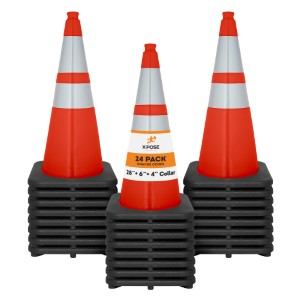traffic cone: (28, 11, 118, 188), (183, 11, 273, 187), (105, 43, 194, 220)
